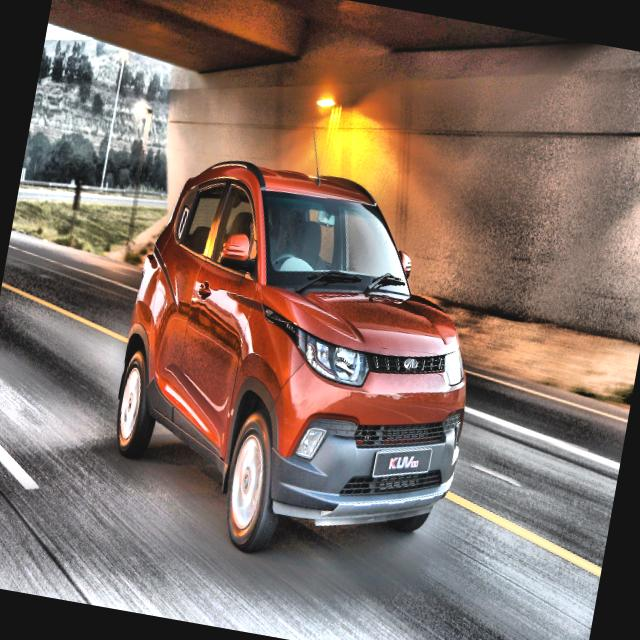Car: (96, 147, 502, 584)
